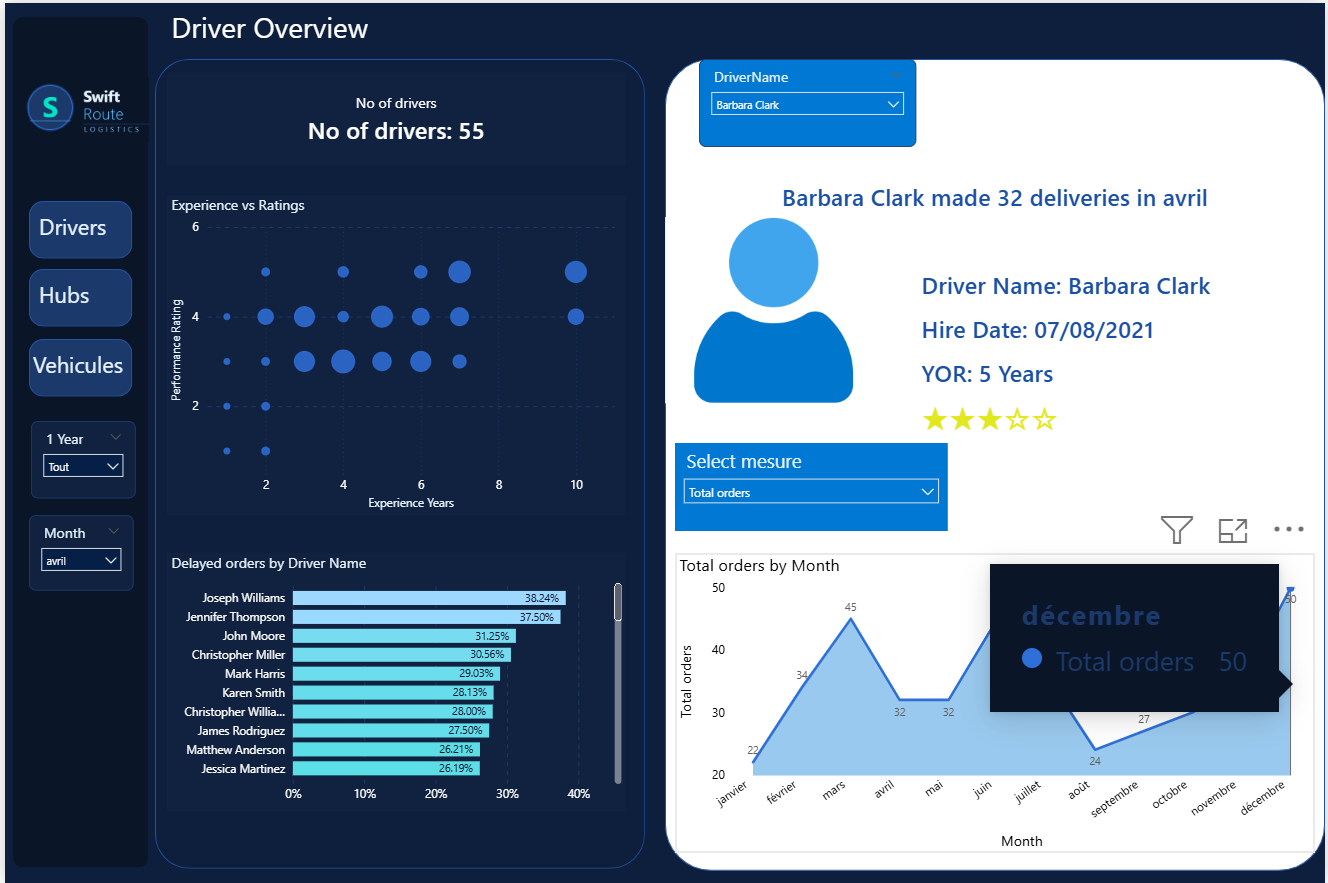

The page's visual inventory and layout, read from the dashboard file:
{"tool":"powerbi","page":{"name":"Drivers","canvas":[1500,1000],"ordinal":1},"visuals":[{"type":"shape","box":[9.3,16.3,153.7,966.6],"z":0},{"type":"textbox","box":[184,0,470.5,62.9],"z":1000},{"type":"slicer","fields":{"Values":["Date.1 Year"]},"box":[29.3,474.1,119,87.9],"z":2000},{"type":"slicer","fields":{"Values":["Date.Month"]},"box":[27.6,581,119,86.2],"z":3000},{"type":"shape","box":[170,62.9,556.7,920],"z":4000},{"type":"cardVisual","fields":{"Data":["Table.No of drivers"]},"box":[184,79.2,521.7,104.8],"z":5000},{"type":"scatterChart","title":"Experience vs Ratings","fields":{"X":["Drivers.Experience Years"],"Y":["Drivers.Performance Rating"],"Size":["Sum(Drivers.Experience Years)1"]},"box":[184,218.9,521.7,363.4],"z":6000},{"type":"barChart","title":"Delayed orders by Driver Name","fields":{"Category":["Drivers.DriverName"],"Y":["Table.Delayed orders"]},"box":[184,624.2,521.7,293.5],"z":7000},{"type":"shape","box":[750,62.9,750,922.4],"z":8000},{"type":"slicer","fields":{"Values":["Drivers.DriverName"]},"box":[789.6,62.9,246.9,100.2],"z":9000},{"type":"cardVisual","fields":{"Data":["Table.Drivers Title"]},"box":[750,165.4,750,104.8],"z":10000},{"type":"cardVisual","fields":{"Data":["Table.Driver name Title","Table.Hire date title","Table.Year of experiences","Table.Star rating"]},"box":[1036.5,288.8,463.5,212],"z":11000},{"type":"image","box":[750,242.2,246.9,212],"z":12000},{"type":"areaChart","title":"Total orders by Month","fields":{"Y":["Table.Total orders"],"Category":["Date.Month"]},"box":[761.6,624.2,726.7,342.4],"z":13000},{"type":"slicer","fields":{"Values":["Select mesure.Select mesure"]},"box":[761.6,500.8,309.8,100.2],"z":14000},{"type":"shape","box":[26.9,225,117.3,65.4],"z":15000},{"type":"actionButton","title":"Drivers","box":[38.5,236.5,100,40.4],"z":16000},{"type":"shape","box":[26.9,301.9,117.3,65.4],"z":17000},{"type":"actionButton","title":"Hubs","box":[38.5,313.5,100,40.4],"z":18000},{"type":"shape","box":[26.9,380.8,117.3,65.4],"z":19000},{"type":"actionButton","title":"Vehicules","box":[32.7,394.2,111.5,40.4],"z":20000},{"type":"image","box":[9.1,25,154.5,193.2],"z":21000}]}

Visuals, with their boxes on the page's 1500x1000 design canvas (x1, y1, x2, y2). These are canvas units, not pixel positions in the 1328x883 screenshot, which may show the page scaled, cropped or inside an application window:
shape: detection(9, 16, 163, 983)
textbox: detection(184, 0, 654, 63)
slicer - Date.1 Year: detection(29, 474, 148, 562)
slicer - Date.Month: detection(28, 581, 147, 667)
shape: detection(170, 63, 727, 983)
cardVisual - Table.No of drivers: detection(184, 79, 706, 184)
"Experience vs Ratings" scatterChart: detection(184, 219, 706, 582)
"Delayed orders by Driver Name" barChart: detection(184, 624, 706, 918)
shape: detection(750, 63, 1500, 985)
slicer - Drivers.DriverName: detection(790, 63, 1036, 163)
cardVisual - Table.Drivers Title: detection(750, 165, 1500, 270)
cardVisual - Table.Driver name Title x Table.Hire date title: detection(1036, 289, 1500, 501)
image: detection(750, 242, 997, 454)
"Total orders by Month" areaChart: detection(762, 624, 1488, 967)
slicer - Select mesure.Select mesure: detection(762, 501, 1071, 601)
shape: detection(27, 225, 144, 290)
"Drivers" actionButton: detection(38, 236, 138, 277)
shape: detection(27, 302, 144, 367)
"Hubs" actionButton: detection(38, 314, 138, 354)
shape: detection(27, 381, 144, 446)
"Vehicules" actionButton: detection(33, 394, 144, 435)
image: detection(9, 25, 164, 218)
